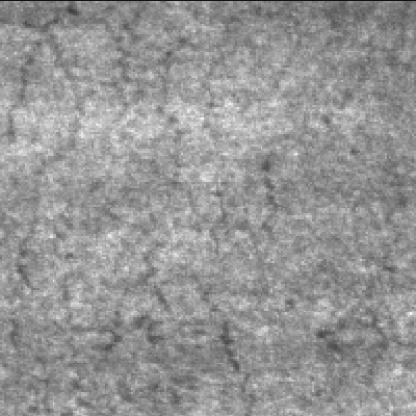crazing: (5, 184, 276, 410), (0, 9, 308, 141), (0, 8, 92, 296)
inclusion: (188, 166, 258, 408)
